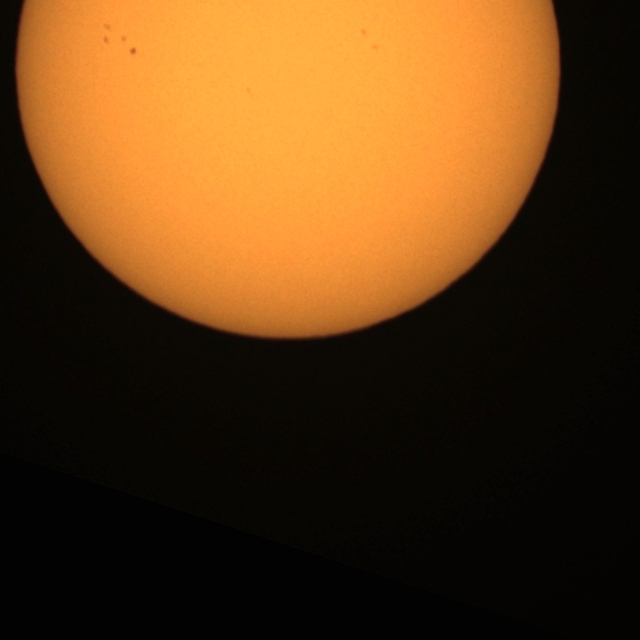sunspot: (101, 23, 132, 51), (108, 33, 137, 57), (101, 24, 113, 46), (244, 86, 254, 100), (128, 46, 138, 56), (359, 27, 368, 38)
